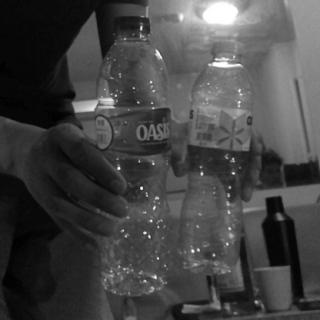plastic_bottles: (96, 14, 175, 298), (175, 42, 255, 274)
